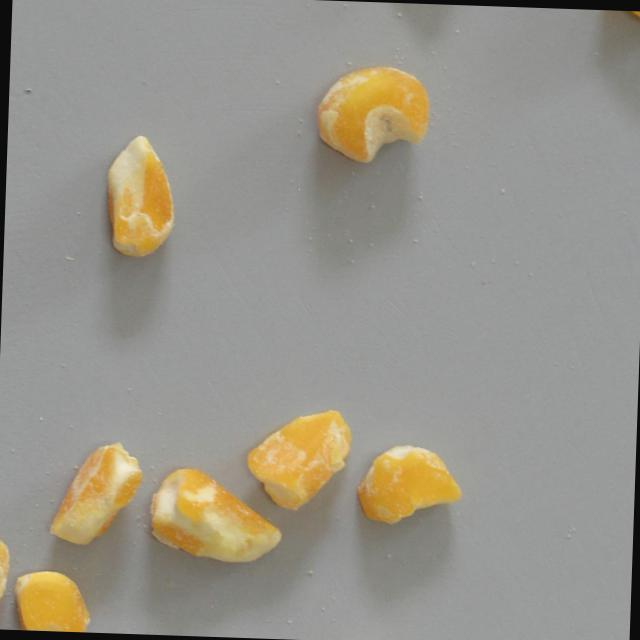dañado: (143, 462, 289, 569), (309, 61, 437, 170), (239, 406, 356, 516), (100, 126, 187, 268), (42, 439, 147, 549), (350, 440, 469, 532), (8, 566, 96, 632), (0, 533, 14, 629)
